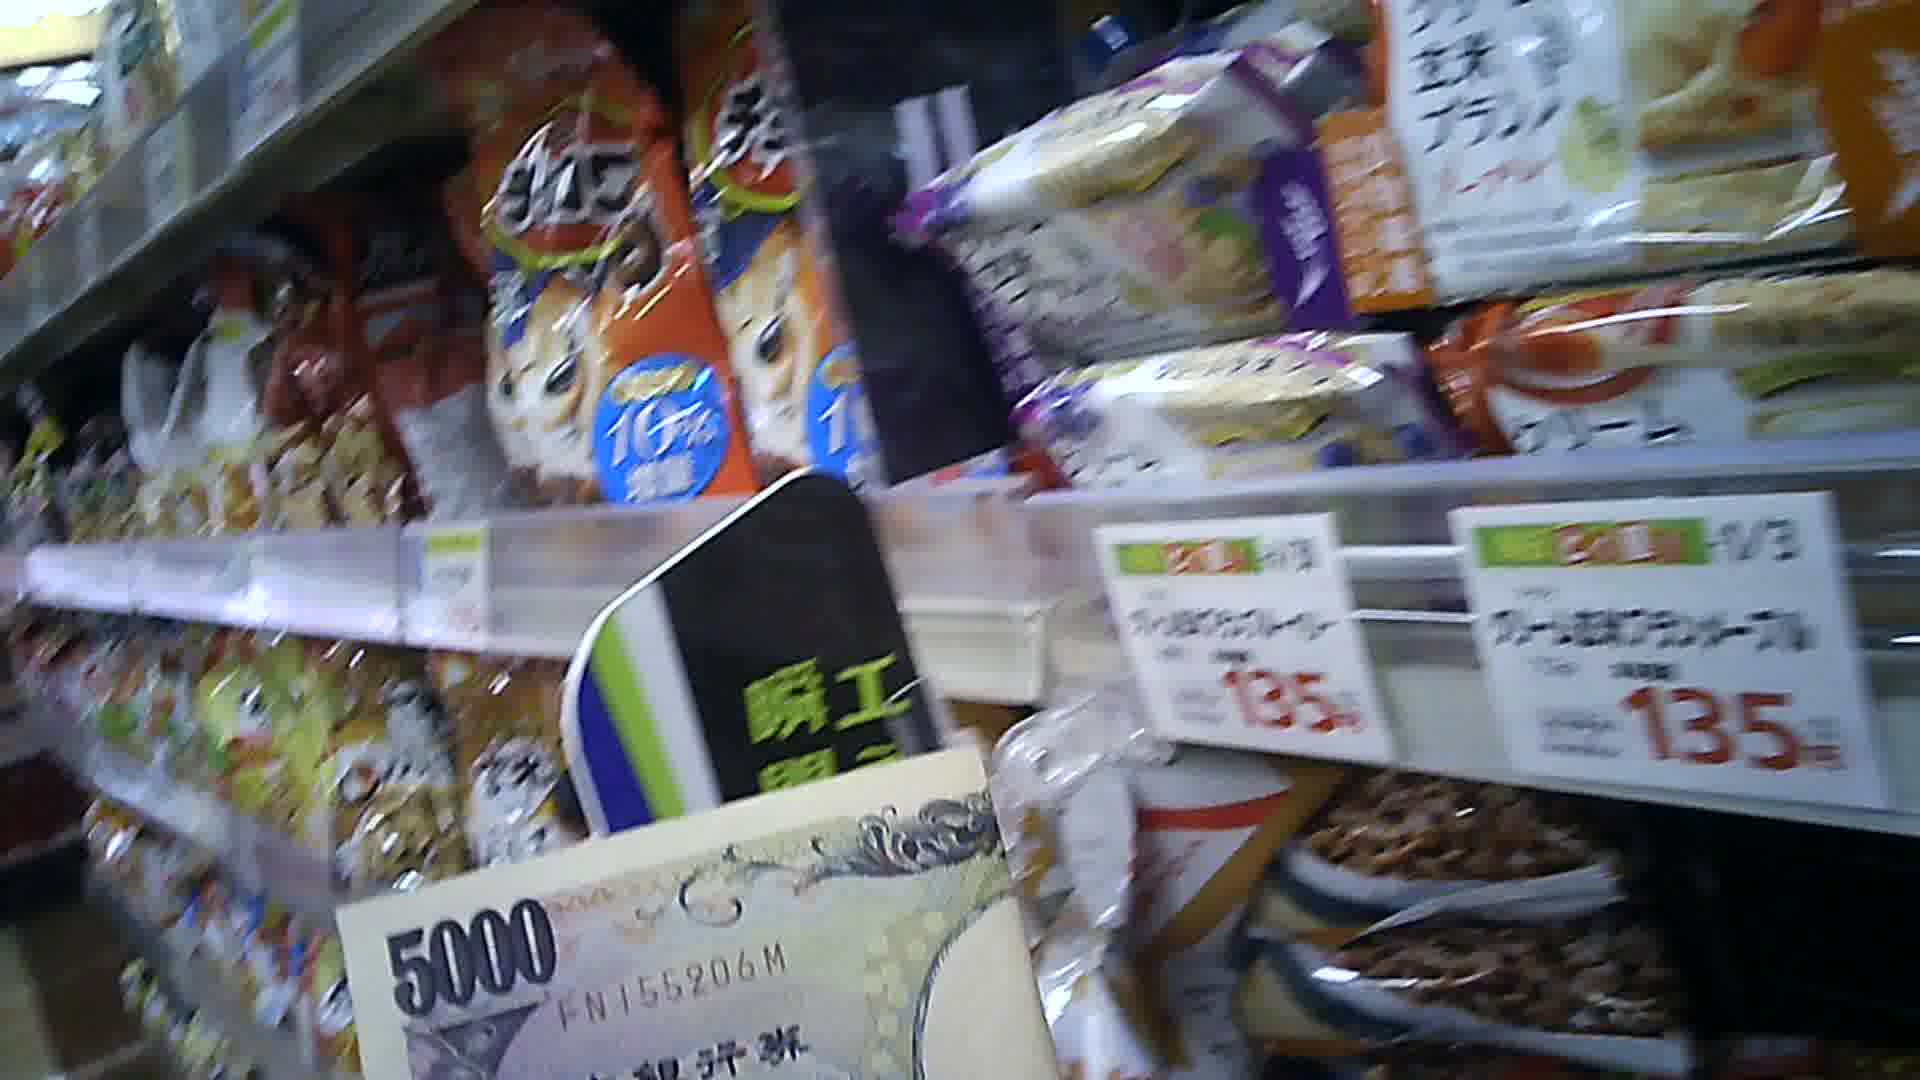5,000 Yen: (330, 754, 1069, 1077)
